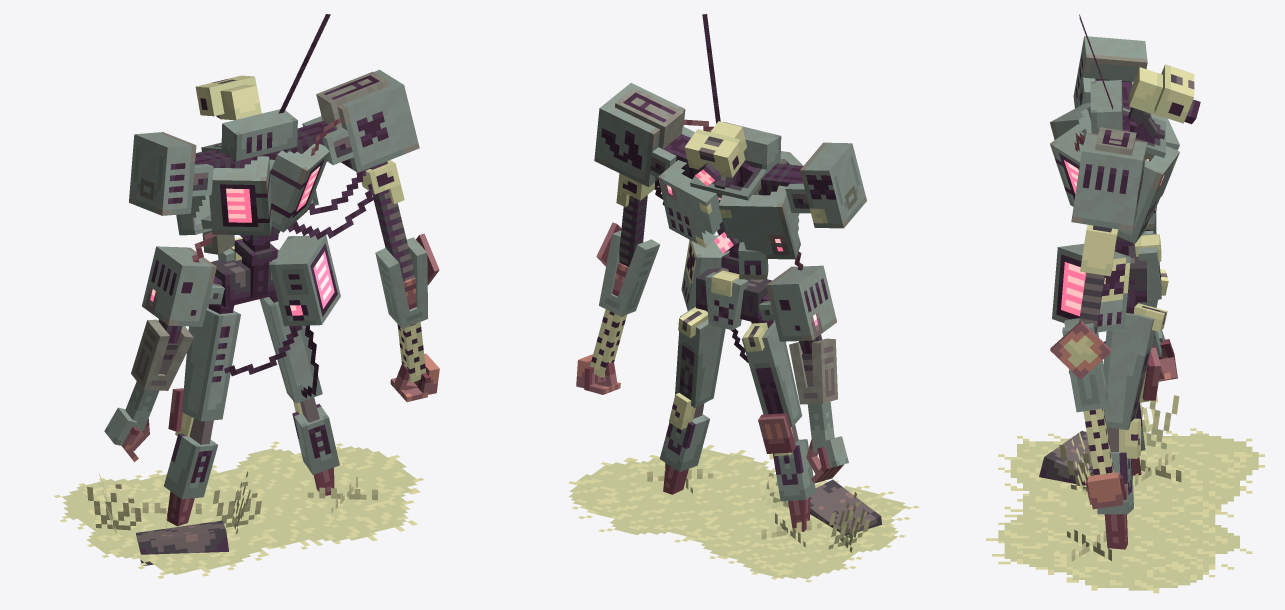
File: scrap_robot.glb
3 renders of one model, left to right at view 1: azimuth 30°, elevation 25°; view 2: azimuth 150°, elevation 25°; view 3: azimuth 270°, elevation 25°, orthographic. The views are drawn at different scales.
Visible parts, largest first — view 1: Object_2; view 2: Object_2; view 3: Object_2.
Boxes of the visible parts, box(x1,y1,x2,y2) form: Object_2: box(54, 14, 439, 578); Object_2: box(568, 14, 919, 582); Object_2: box(986, 14, 1264, 593).
Size of the model in its own units: 4.18 by 6.05 by 2.88.
1 material, 1 textured.
